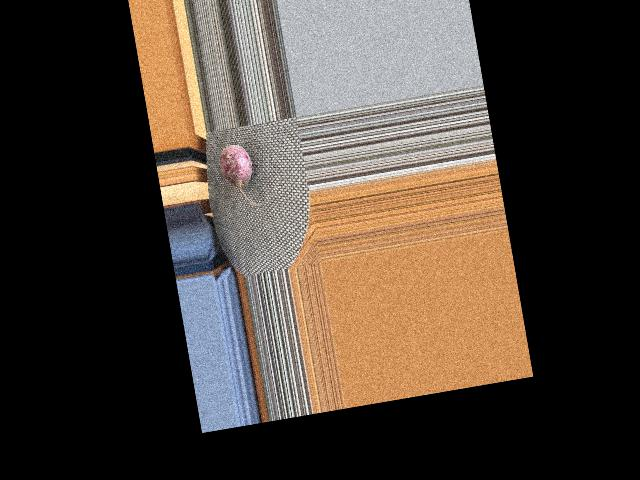beet: (216, 142, 262, 211)
